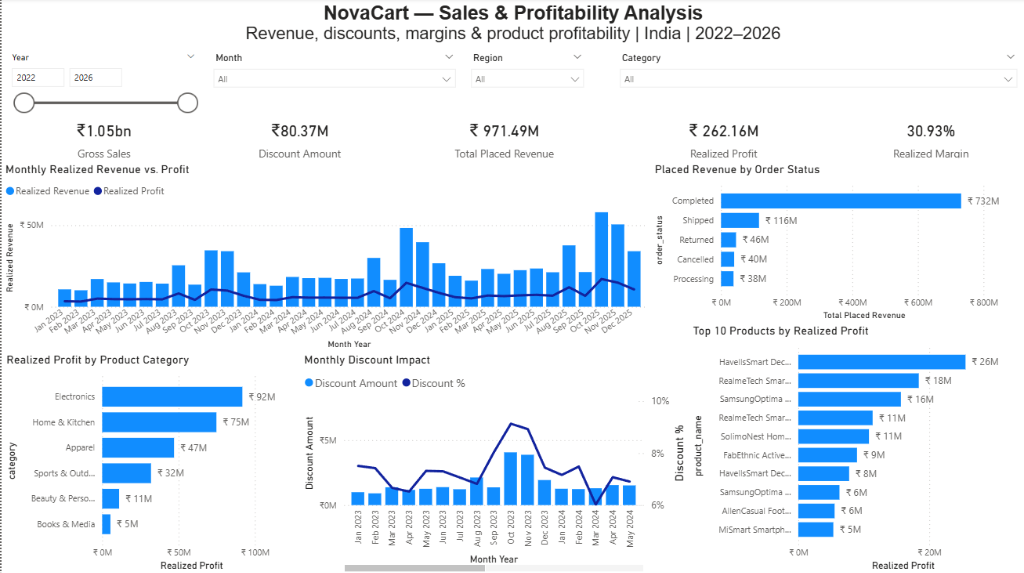

This screenshot's page, from the dashboard's own definition file:
{"tool":"powerbi","page":{"name":"Sales & Profitability","canvas":[1280,720],"ordinal":1},"visuals":[{"type":"textbox","box":[0,0,1277.5,62.5],"z":0},{"type":"slicer","title":"MONTH","fields":{"Values":["dim_date.month_name"]},"box":[253.8,62.5,322.5,82.5],"z":1000},{"type":"slicer","title":"YEAR","fields":{"Values":["dim_date.year"]},"box":[0,62.5,253.8,82.5],"z":2000},{"type":"slicer","title":"REGION","fields":{"Values":["dim_location.region"]},"box":[576.2,62.5,161.2,82.5],"z":3000},{"type":"slicer","title":"CATEGORY","fields":{"Values":["dim_product.category"]},"box":[761.2,62.5,516.2,82.5],"z":4000},{"type":"card","fields":{"Values":["_Measures.Gross Sales"]},"box":[1.2,145,253.8,58.8],"z":5000},{"type":"card","fields":{"Values":["_Measures.Discount Amount"]},"box":[253.8,145,236.2,58.8],"z":6000},{"type":"card","fields":{"Values":["_Measures.Total Placed Revenue"]},"box":[490,145,275,58.8],"z":7000},{"type":"card","fields":{"Values":["_Measures.Realized Profit"]},"box":[761.2,145,280,58.8],"z":8000},{"type":"card","fields":{"Values":["_Measures.Realized Margin"]},"box":[1042.5,145,235,58.8],"z":9000},{"type":"lineClusteredColumnComboChart","title":"Monthly Realized Revenue vs. Profit","fields":{"Category":["dim_date.Month Year"],"Y":["_Measures.Realized Revenue"],"Y2":["_Measures.Realized Profit"]},"box":[0,203.8,811.2,238.8],"z":10000},{"type":"clusteredBarChart","title":"Placed Revenue by Order Status","fields":{"Category":["fact_sales.order_status"],"Y":["_Measures.Total Placed Revenue"]},"box":[811.2,203.8,468.8,202.5],"z":11000},{"type":"clusteredBarChart","title":"Realized Profit by Product Category","fields":{"Category":["dim_product.category"],"Y":["_Measures.Realized Profit"]},"box":[1.2,442.5,371.2,277.5],"z":12000},{"type":"lineClusteredColumnComboChart","title":"Monthly Discount Impact","fields":{"Category":["dim_date.Month Year"],"Y":["_Measures.Discount Amount"],"Y2":["_Measures.Discount %"]},"box":[372.5,442.5,486.2,277.5],"z":13000},{"type":"clusteredBarChart","title":"Top 10 Products by Realized Profit","fields":{"Category":["dim_product.product_name"],"Y":["_Measures.Realized Profit"]},"box":[858.8,406.2,418.8,313.8],"z":14000}]}

Visuals, with their boxes in screenshot pixels (x1, y1, x2, y2), scaled from the page's 1280x720 canvas onto the 1024x573 screenshot:
textbox: crop(0, 0, 1022, 50)
"MONTH" slicer: crop(203, 50, 461, 115)
"YEAR" slicer: crop(0, 50, 203, 115)
"REGION" slicer: crop(461, 50, 590, 115)
"CATEGORY" slicer: crop(609, 50, 1022, 115)
card - _Measures.Gross Sales: crop(1, 115, 204, 162)
card - _Measures.Discount Amount: crop(203, 115, 392, 162)
card - _Measures.Total Placed Revenue: crop(392, 115, 612, 162)
card - _Measures.Realized Profit: crop(609, 115, 833, 162)
card - _Measures.Realized Margin: crop(834, 115, 1022, 162)
"Monthly Realized Revenue vs. Profit" lineClusteredColumnComboChart: crop(0, 162, 649, 352)
"Placed Revenue by Order Status" clusteredBarChart: crop(649, 162, 1023, 323)
"Realized Profit by Product Category" clusteredBarChart: crop(1, 352, 298, 572)
"Monthly Discount Impact" lineClusteredColumnComboChart: crop(298, 352, 687, 572)
"Top 10 Products by Realized Profit" clusteredBarChart: crop(687, 323, 1022, 572)
